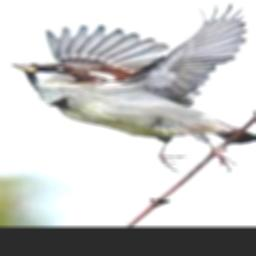Sparrow: (9, 2, 256, 172)
